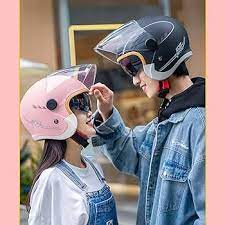helmets: (9, 63, 102, 150), (83, 15, 199, 79)
